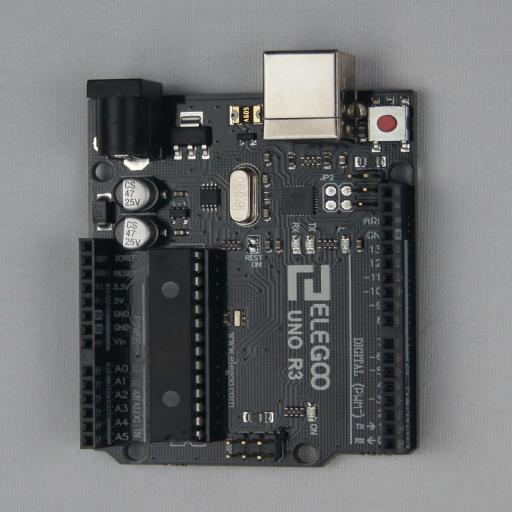Arduino Uno -Black-: (79, 49, 430, 467)
